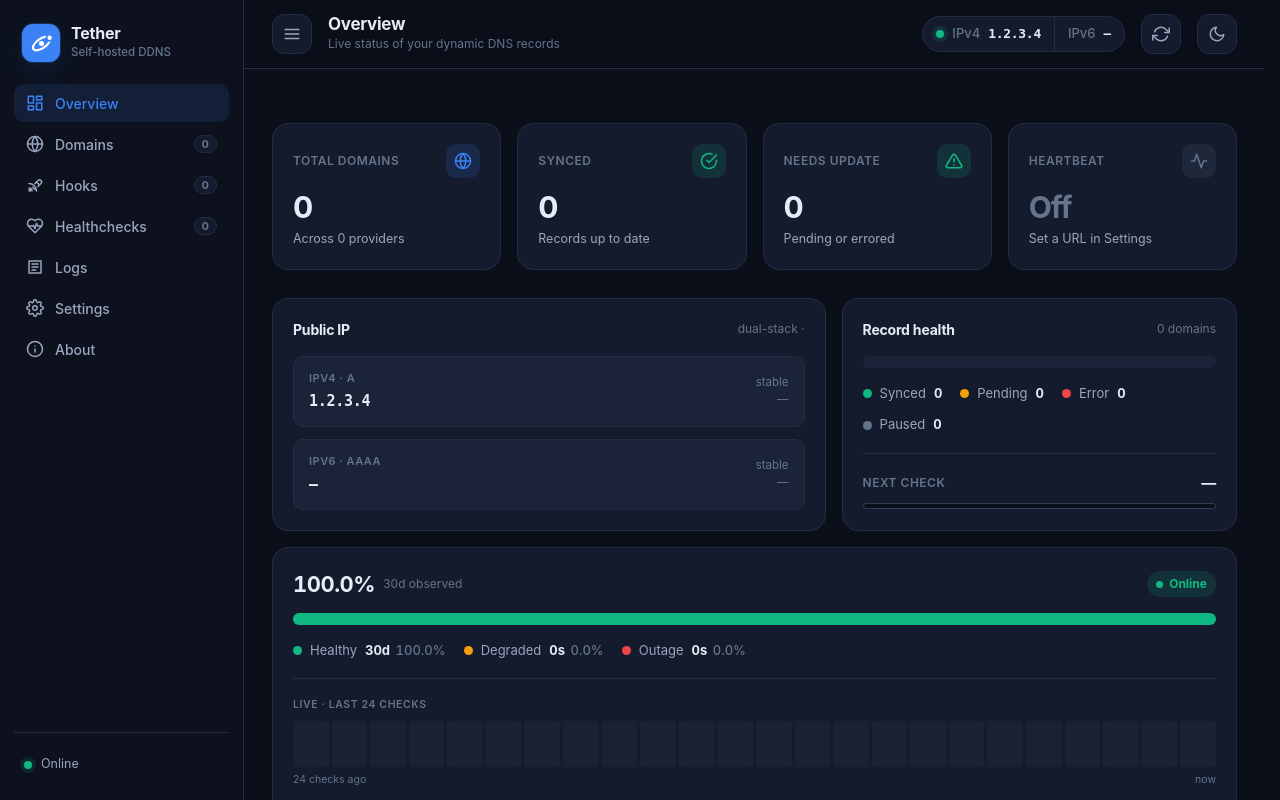
Test: App form validation › shows domain save errors inline, keeps the modal open and skips the error toast
Step 1. Click the button "Domains 0" → (122, 144), box [14, 125, 229, 163]
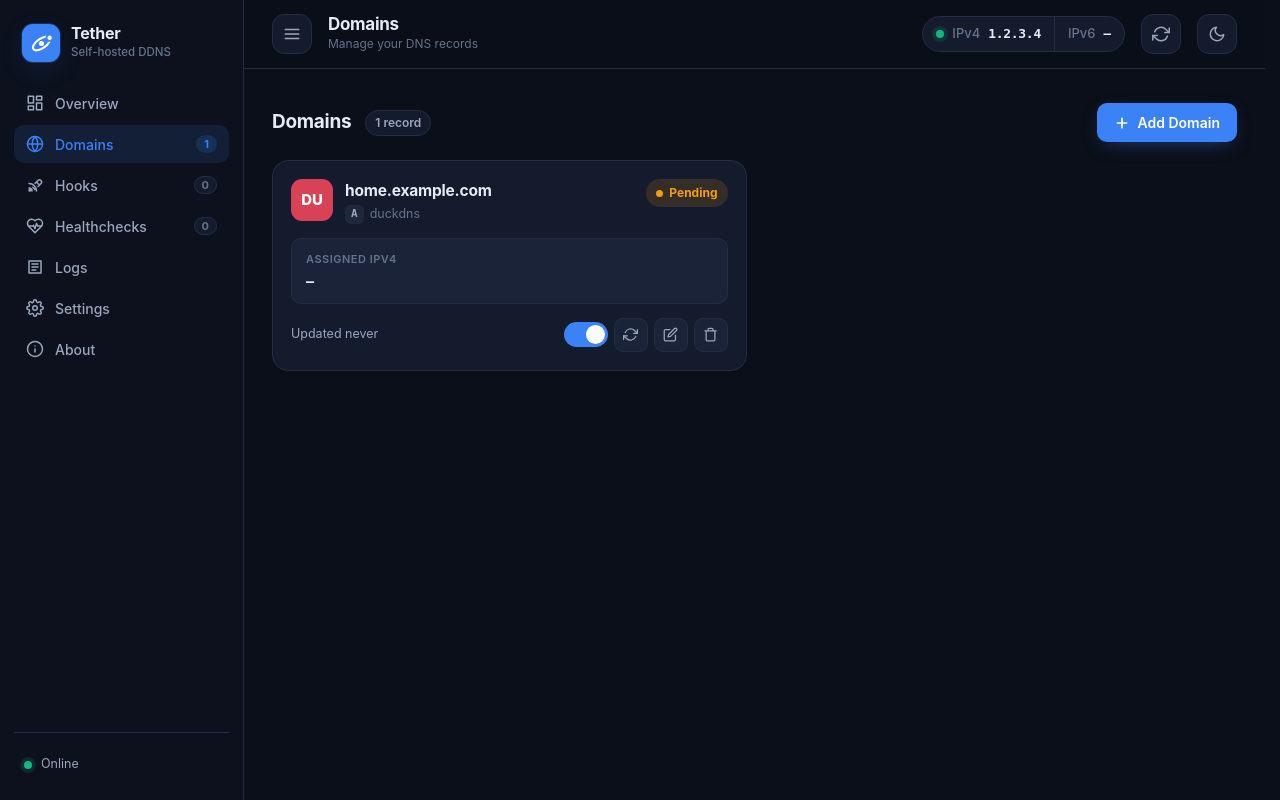
Expected: the checkbox is shown, [564, 322, 608, 347]
Step 2. Click the button "Add Domain" → (1167, 122), box [1096, 103, 1237, 142]
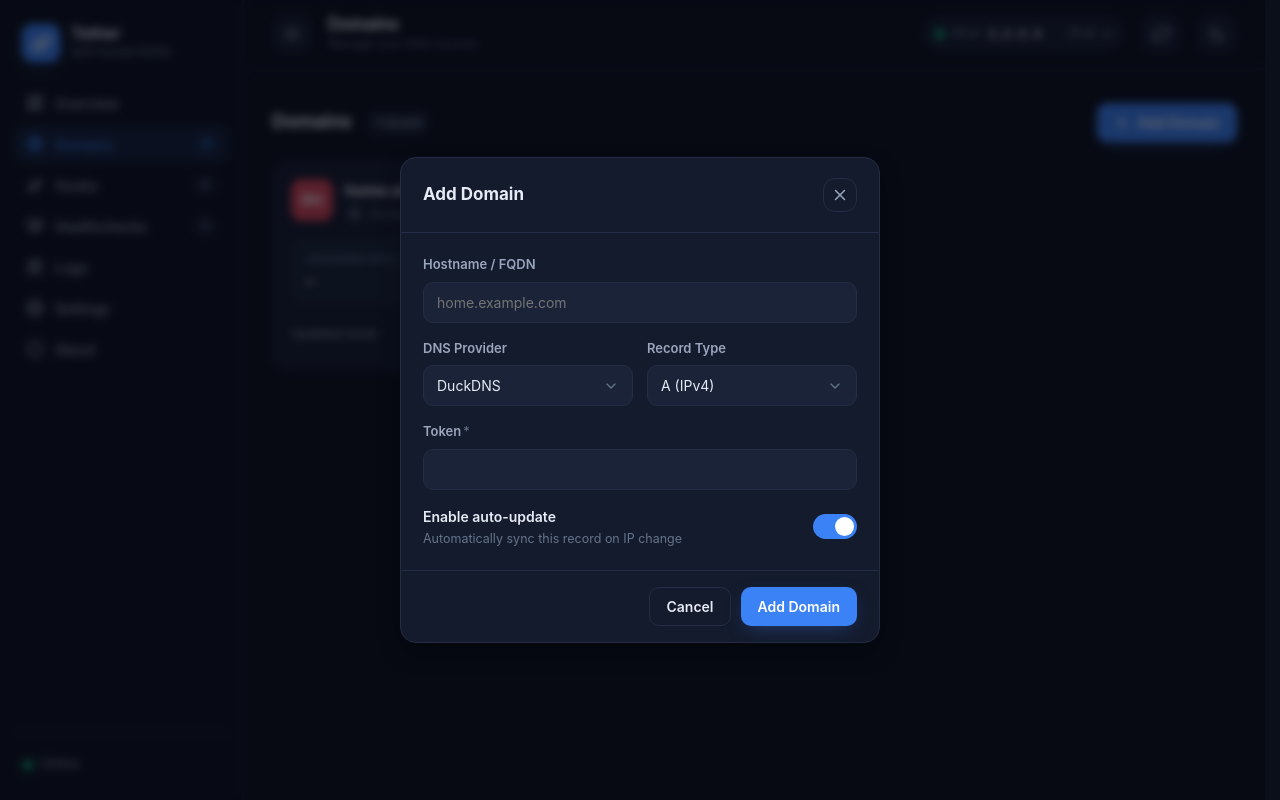
Step 3. Type "new.example.com" into the field labelled "Hostname / FQDN" → (640, 302), box [423, 281, 857, 322]
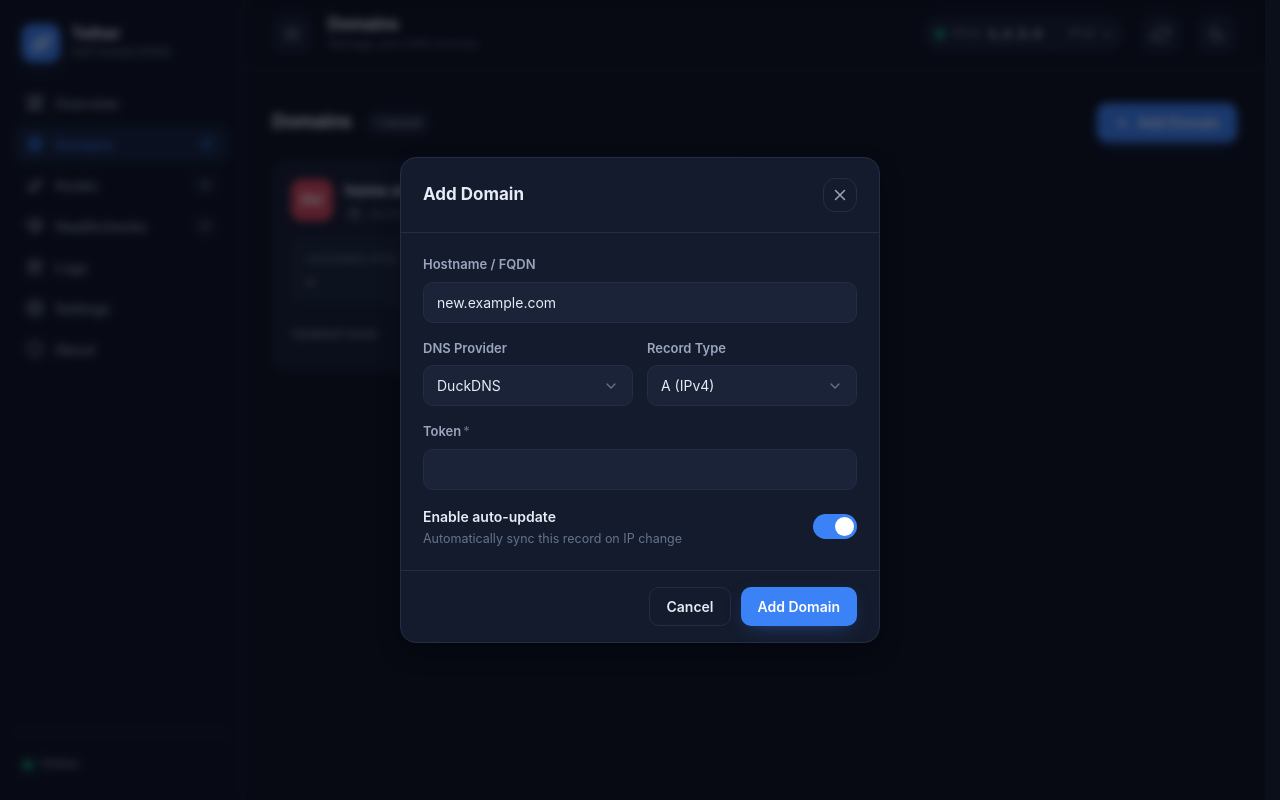
Step 4. Click the button "Add Domain" → (799, 607), box [740, 587, 857, 626]
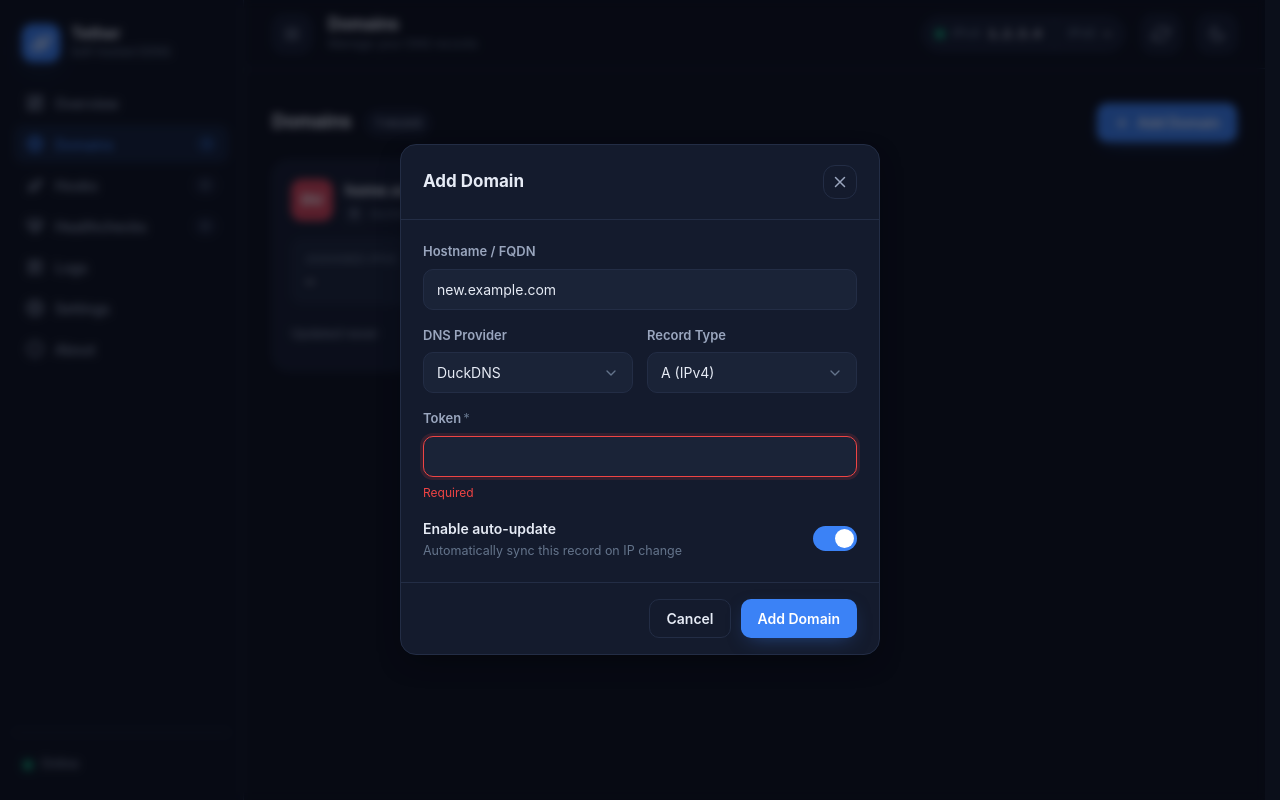
Expected: the dialog "Add Domain" is shown, [400, 144, 880, 656]
Expected: the text "Required" is shown, [423, 485, 474, 500]
